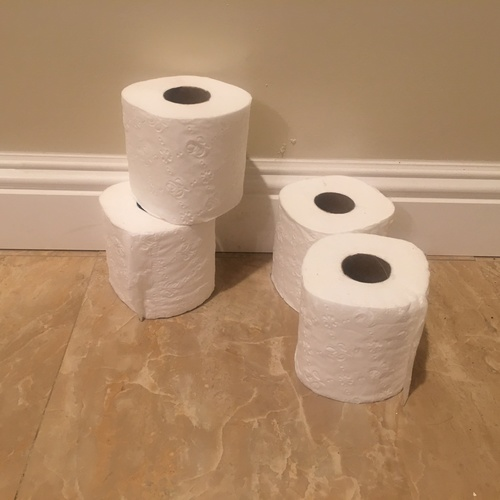roll: (292, 233, 430, 404), (120, 74, 254, 225), (270, 176, 396, 314), (99, 181, 215, 320)
